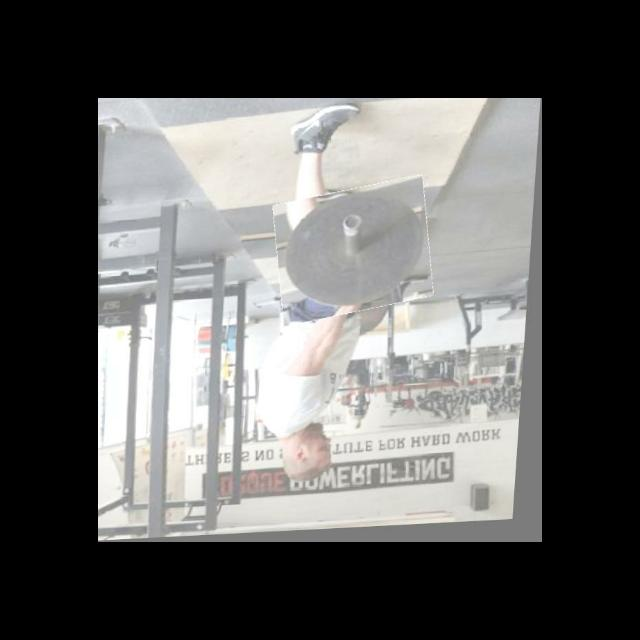barbell: (273, 183, 439, 324)
